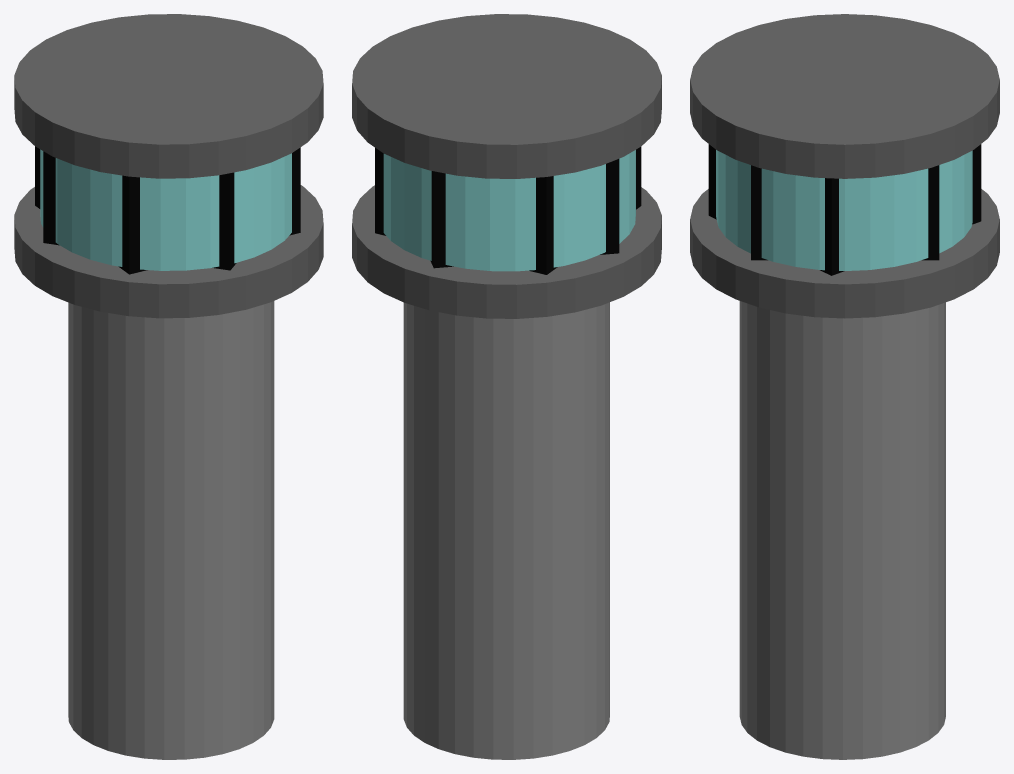
File: tower.fbx
3 views of the same model, side by side, from view 1: azimuth 30°, elevation 25°; view 2: azimuth 150°, elevation 25°; view 3: azimuth 270°, elevation 25° (orthographic).
Parts seen in each view (by area): view 1: Cylinder.002; view 2: Cylinder.002; view 3: Cylinder.002.
Part boxes in pixels (x1,y1,x2,y2): Cylinder.002: (14, 14, 323, 759); Cylinder.002: (352, 14, 661, 759); Cylinder.002: (690, 14, 999, 759).
Size of the model in its own units: 240 by 544 by 240.
